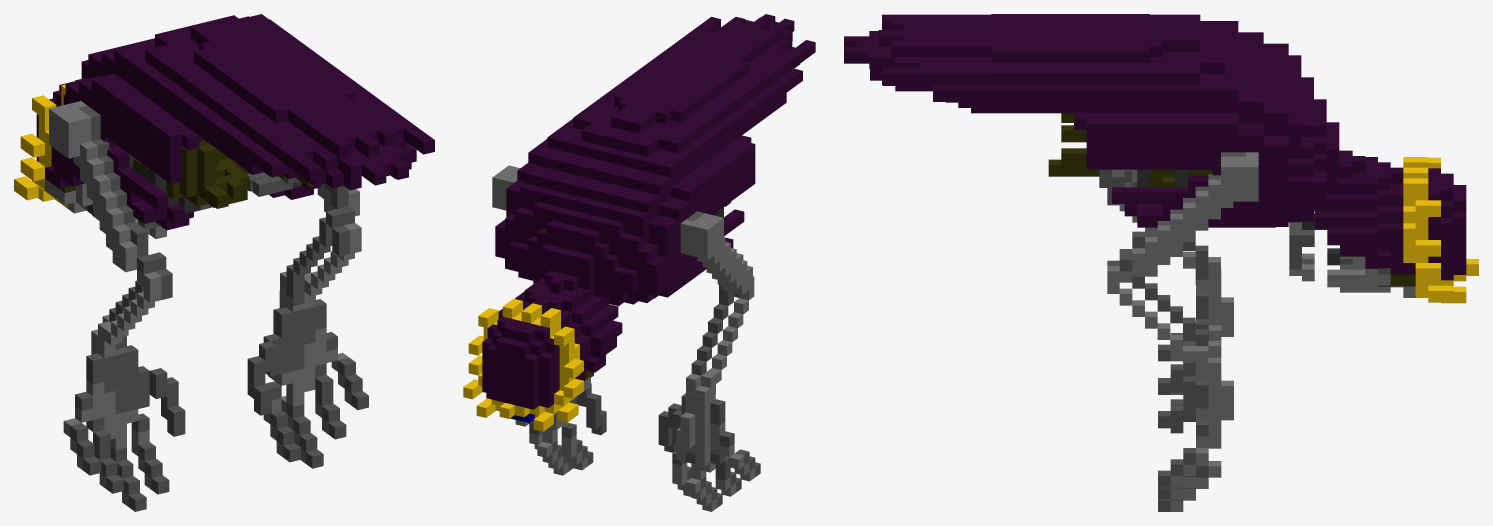
File: Cutscene_lich.fbx
The picture shows the model from 3 angles, left to right: view 1: azimuth 30°, elevation 25°; view 2: azimuth 150°, elevation 25°; view 3: azimuth 270°, elevation 25°; orthographic projection. The views are drawn at different scales.
Parts seen in each view (by area): view 1: Lich body 1, Lich hands right, Lich hands left, Lich arms left, Lich body extra back 2-1, Lich body extra back 2_2, Lich arms right, Lich head, Lich body extra back 3, Lich body extra back 1; view 2: Lich body 1, Lich head, Lich hands left, Lich arms left, Lich body extra back 2-1, Lich hands right, Lich body extra back 2_2, Lich body extra back 3, Lich body extra back 1, Lich arms right; view 3: Lich body 1, Lich head, Lich arms right, Lich body extra back 2-1, Lich hands right, Lich body extra back 2_2, Lich body extra back 1, Lich body extra back 3, Lich hands left, Lich arms left.
Boxes of the visible parts, x1,y1,x2,y2 form: Lich body 1: [63, 14, 331, 230]; Lich hands right: [247, 291, 368, 468]; Lich hands left: [63, 343, 185, 511]; Lich arms left: [49, 101, 172, 352]; Lich body extra back 2-1: [207, 58, 377, 140]; Lich body extra back 2_2: [251, 98, 434, 185]; Lich arms right: [280, 183, 361, 306]; Lich head: [14, 81, 166, 238]; Lich body extra back 3: [287, 94, 395, 158]; Lich body extra back 1: [199, 109, 416, 190]; Lich body 1: [495, 74, 755, 306]; Lich head: [463, 271, 622, 431]; Lich hands left: [658, 392, 760, 511]; Lich arms left: [680, 211, 754, 401]; Lich body extra back 2-1: [626, 46, 768, 114]; Lich hands right: [515, 383, 606, 475]; Lich body extra back 2_2: [664, 14, 815, 86]; Lich body extra back 3: [692, 17, 783, 62]; Lich body extra back 1: [732, 42, 802, 138]; Lich arms right: [492, 165, 520, 210]; Lich body 1: [1048, 14, 1339, 227]; Lich head: [1289, 150, 1478, 303]; Lich arms right: [1107, 152, 1258, 374]; Lich body extra back 2-1: [991, 14, 1079, 84]; Lich hands right: [1158, 358, 1233, 511]; Lich body extra back 2_2: [844, 14, 995, 84]; Lich body extra back 1: [870, 69, 1084, 113]; Lich body extra back 3: [878, 19, 992, 57]; Lich hands left: [1158, 269, 1233, 428]; Lich arms left: [1107, 169, 1220, 284].
Size of the model in its own units: 2.22 by 3.42 by 4.52.
1 material, 1 textured.
